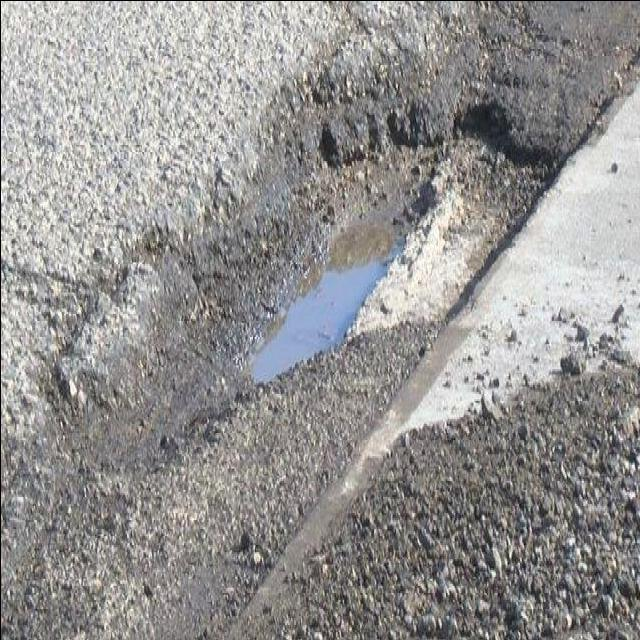jalan retak: (0, 163, 179, 629), (252, 3, 638, 139)
lubang: (43, 33, 551, 464)
